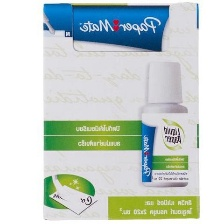book: (39, 0, 204, 221)
correction_fluid: (138, 59, 192, 190)
